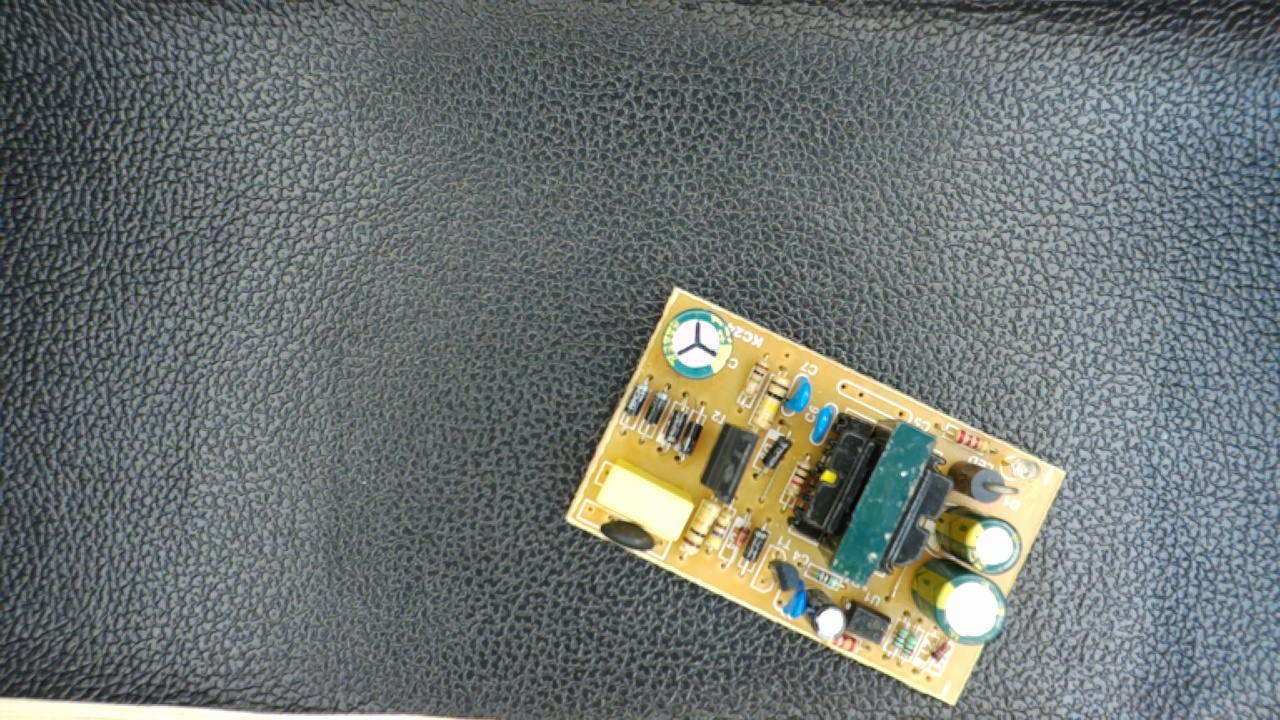fuse: (590, 513, 671, 554)
hv_capacitor: (654, 311, 734, 380)
optocoupler: (834, 594, 896, 648)
